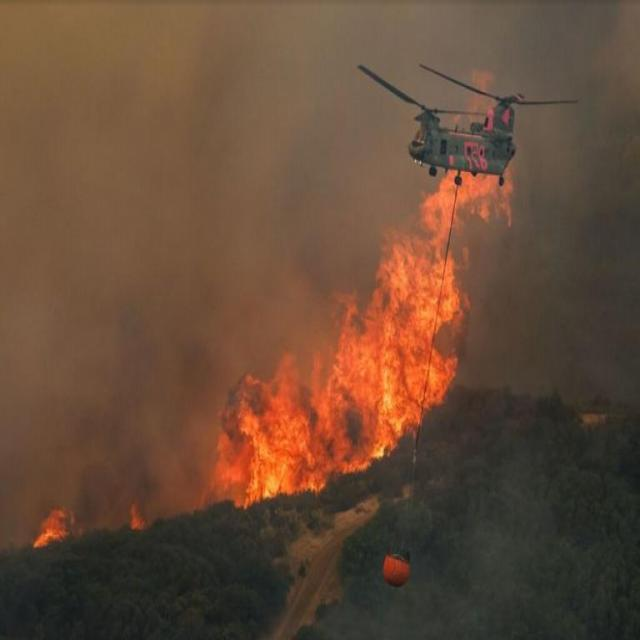Fire: (201, 163, 518, 518), (30, 505, 76, 554), (126, 500, 146, 532)
